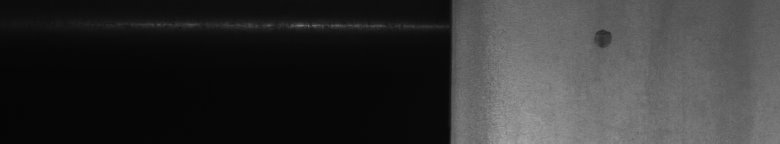fi: (588, 24, 616, 52)
